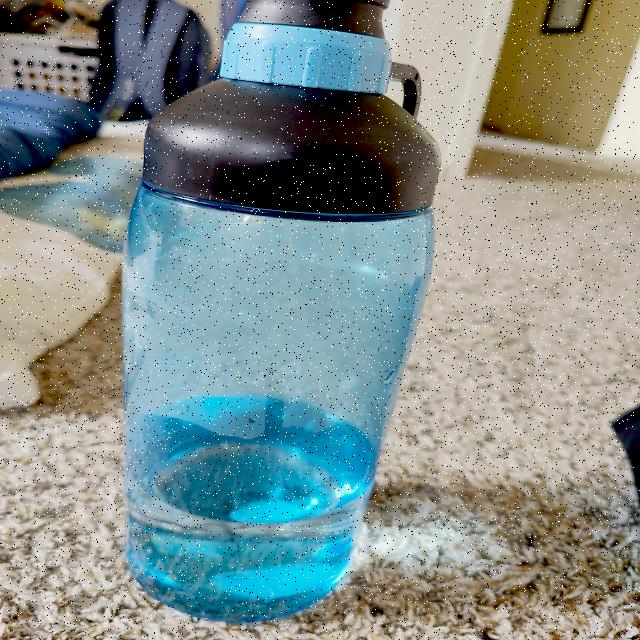bottle: (129, 0, 423, 606)
